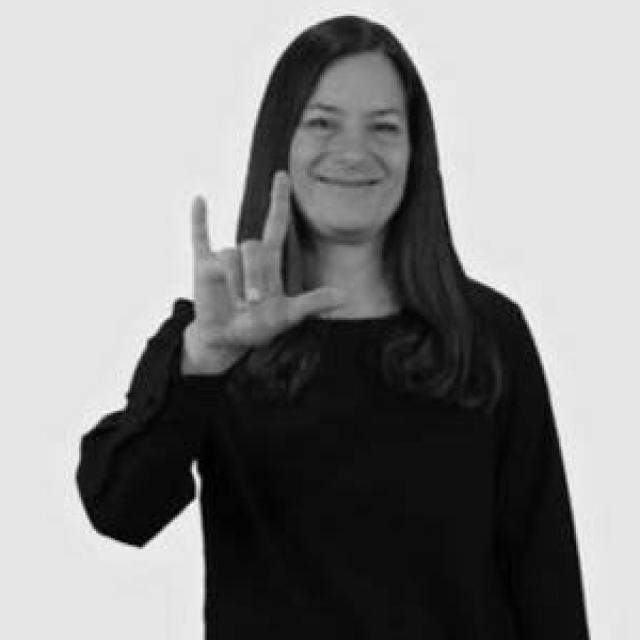i love you: (182, 166, 353, 376)
